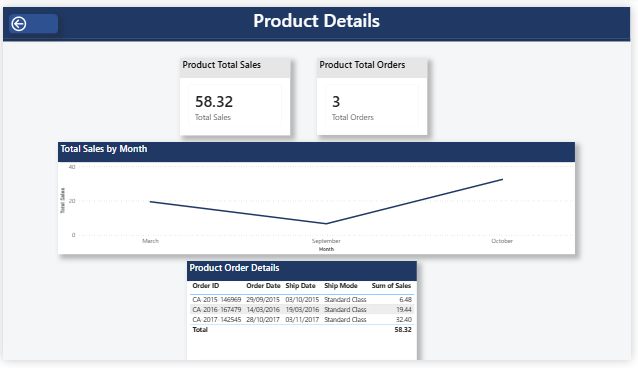

This screenshot's page, from the dashboard's own definition file:
{"tool":"powerbi","page":{"name":"Product Detail ","canvas":[1280,720],"ordinal":3},"visuals":[{"type":"shape","title":"Product Details","box":[0,0,1280,70],"z":0},{"type":"actionButton","box":[12.2,14.3,100,40],"z":1000},{"type":"cardVisual","title":"Product Total Sales","fields":{"Data":["_Measures.Total Sales"]},"box":[361.2,104.1,225.1,157.9],"z":2000},{"type":"cardVisual","title":"Product Total Orders","fields":{"Data":["_Measures.Total Orders"]},"box":[640.8,104.1,225,157],"z":3000},{"type":"lineChart","fields":{"Category":["Dim_Date.Month"],"Y":["_Measures.Total Sales"]},"box":[112.2,275.5,1055.1,228.6],"z":4000},{"type":"tableEx","title":"Product Order Details","fields":{"Values":["Fact_Orders.Order ID","Fact_Orders.Order Date","Fact_Orders.Ship Date","Fact_Orders.Ship Mode","Sum(Fact_Orders.Sales)"]},"box":[375.5,518.4,469.4,202],"z":5000}]}

Visuals, with their boxes in screenshot pixels (x1, y1, x2, y2), scaled from the page's 1280x720 canvas onto the 638x368 screenshot:
"Product Details" shape: 0:0:637:36
actionButton: 6:7:56:28
"Product Total Sales" cardVisual: 180:53:292:134
"Product Total Orders" cardVisual: 319:53:432:133
lineChart - Dim_Date.Month x _Measures.Total Sales: 56:141:582:258
"Product Order Details" tableEx: 187:265:421:367
